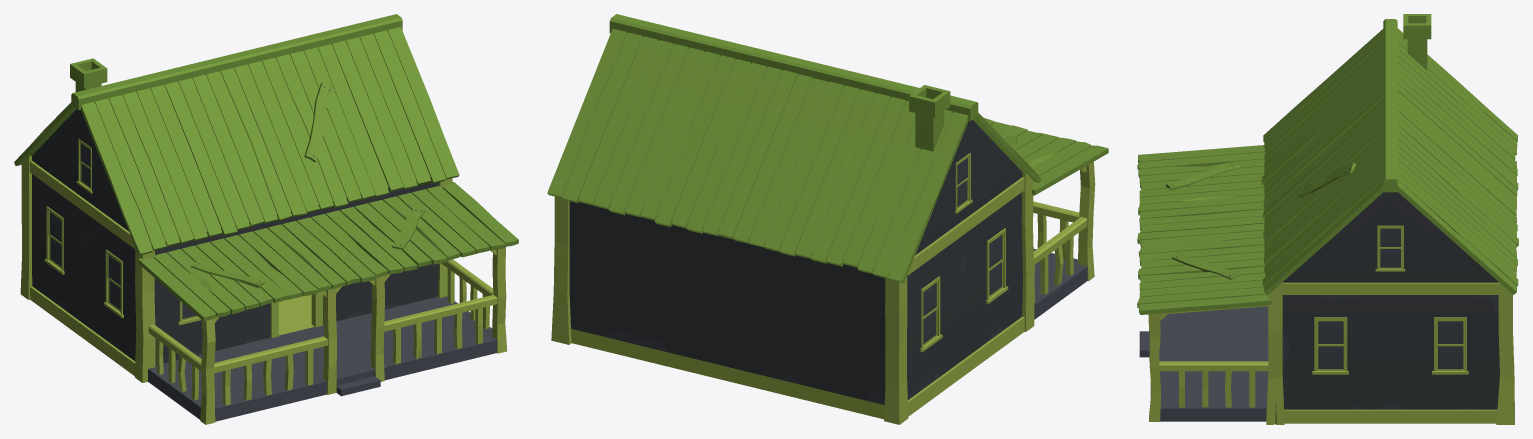
Rendered from House_07.fbx.
3 renders of one model, left to right at view 1: azimuth 30°, elevation 25°; view 2: azimuth 150°, elevation 25°; view 3: azimuth 270°, elevation 25°, orthographic. The views are drawn at different scales.
Visible parts, largest first — view 1: House_07; view 2: House_07; view 3: House_07.
Part boxes in pixels (x1,y1,x2,y2): House_07: (14,14,518,424); House_07: (547,14,1108,424); House_07: (1137,14,1518,424).
Bounding box in the file's own units: 7.9 × 6.01 × 7.96.
